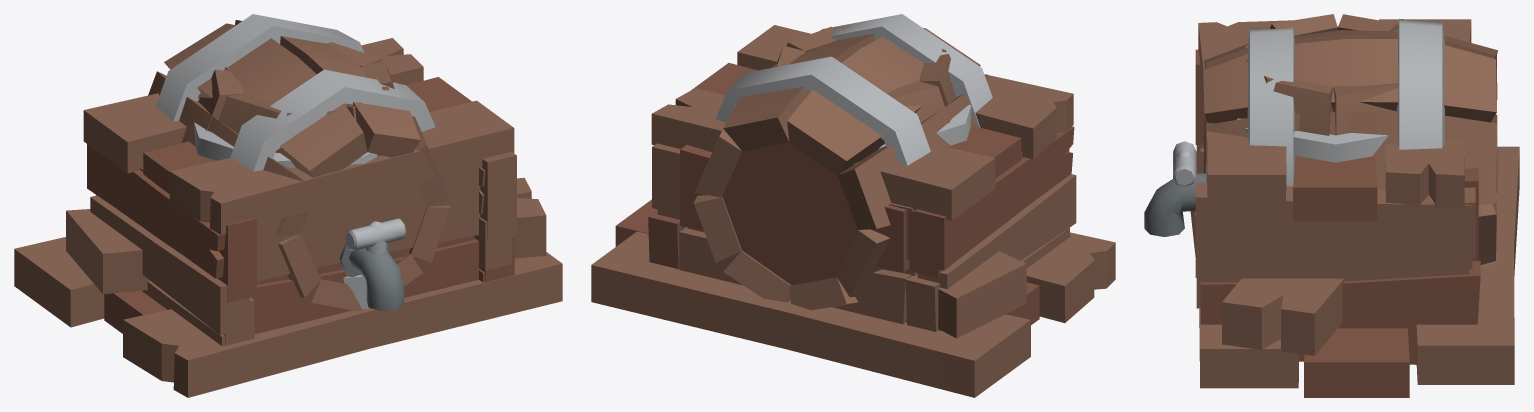
The model's file is addon1.fbx.
3 views of the same model, side by side, from view 1: azimuth 30°, elevation 25°; view 2: azimuth 150°, elevation 25°; view 3: azimuth 270°, elevation 25° (orthographic). The views are drawn at different scales.
Visible parts, largest first — view 1: craft_02, barrel_02, plank_01, craft_01, barrel_01; view 2: barrel_02, plank_01, craft_02, craft_01, barrel_01; view 3: barrel_02, plank_01, craft_01, craft_02, barrel_01.
Part boxes in pixels (box(x1,y1,x2,y2)): craft_02: box(83, 38, 514, 346); barrel_02: box(148, 14, 450, 311); plank_01: box(14, 177, 562, 397); craft_01: box(96, 152, 516, 345); barrel_01: box(194, 42, 420, 308); barrel_02: box(693, 14, 992, 310); plank_01: box(591, 199, 1115, 397); craft_02: box(651, 25, 1076, 330); craft_01: box(648, 145, 1069, 331); barrel_01: box(776, 26, 971, 149); barrel_02: box(1144, 18, 1497, 268); plank_01: box(1190, 146, 1519, 397); craft_01: box(1195, 49, 1480, 364); craft_02: box(1196, 19, 1475, 364); barrel_01: box(1236, 14, 1398, 165).
Bounding box in the file's own units: 115 × 68.11 × 85.78.
